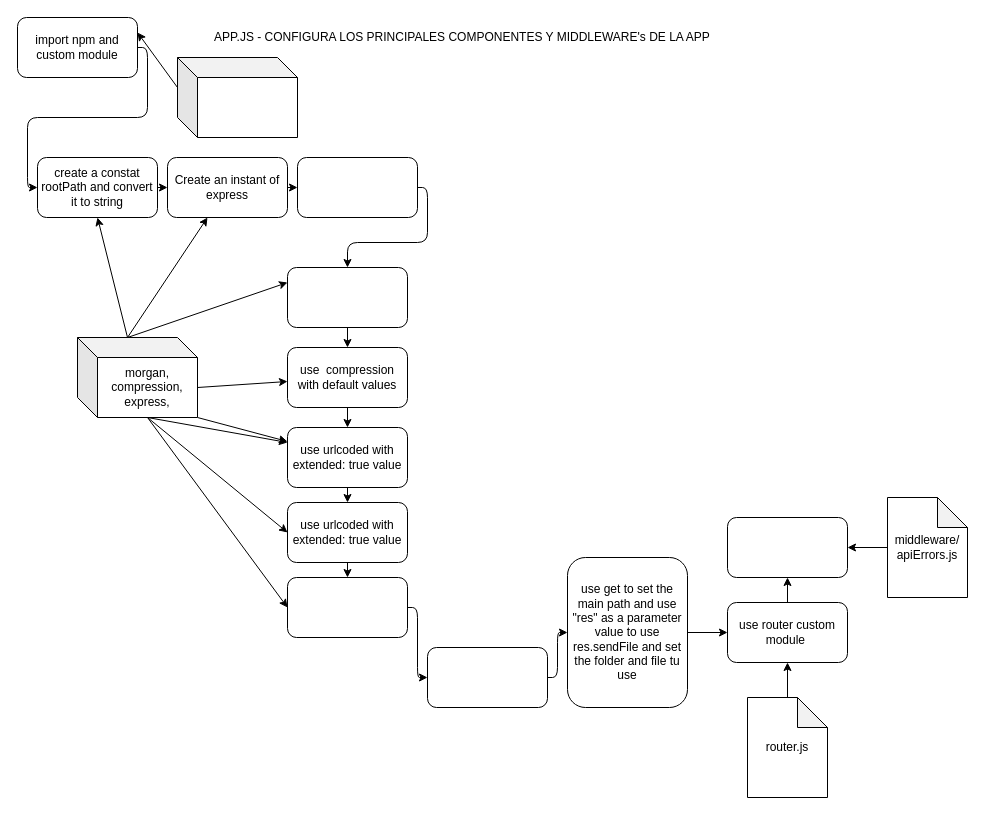
Some shapes in this 985 by 815 pixel diagram are drawn without their labels. Here are the shapes that lost their labels. From the top down, the centre of each, then its label:
At (x=237, y=97): "npm".
At (x=357, y=187): "set values to the instant of express".
At (x=347, y=297): "use morgan with value parameters".
At (x=787, y=547): "use errorHandler at the end of app fije".
At (x=347, y=607): "use express.json function".
At (x=487, y=677): "use express.static function to set static folders and files".
